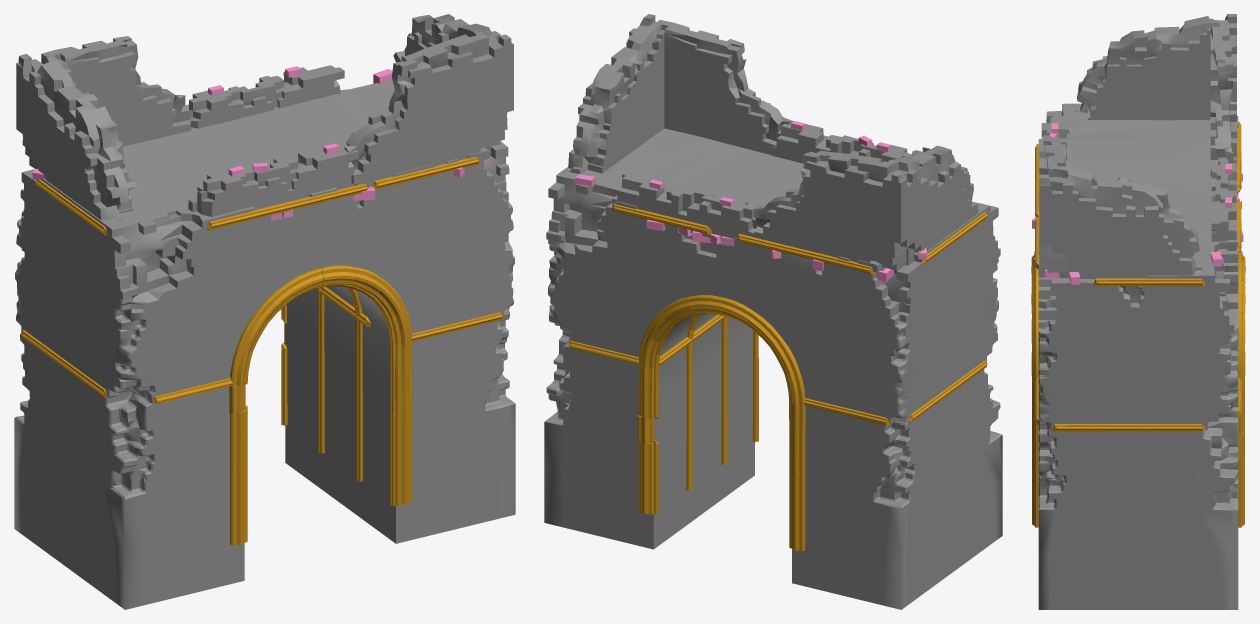
File: SM_Big_Castle_Entrance_ALT.fbx
The picture shows the model from 3 angles, left to right: view 1: azimuth 30°, elevation 25°; view 2: azimuth 150°, elevation 25°; view 3: azimuth 270°, elevation 25°; orthographic projection. The views are drawn at different scales.
Parts seen in each view (by area): view 1: SM_Big_Castle_Entrance_ALT_LOD0; view 2: SM_Big_Castle_Entrance_ALT_LOD0; view 3: SM_Big_Castle_Entrance_ALT_LOD0.
Boxes of the visible parts, box(x1,y1,x2,y2) form: SM_Big_Castle_Entrance_ALT_LOD0: box(14, 14, 515, 609); SM_Big_Castle_Entrance_ALT_LOD0: box(544, 14, 1002, 609); SM_Big_Castle_Entrance_ALT_LOD0: box(1031, 14, 1245, 609).
Size of what is drawn, in the model's own units: 988 by 1132 by 509.
